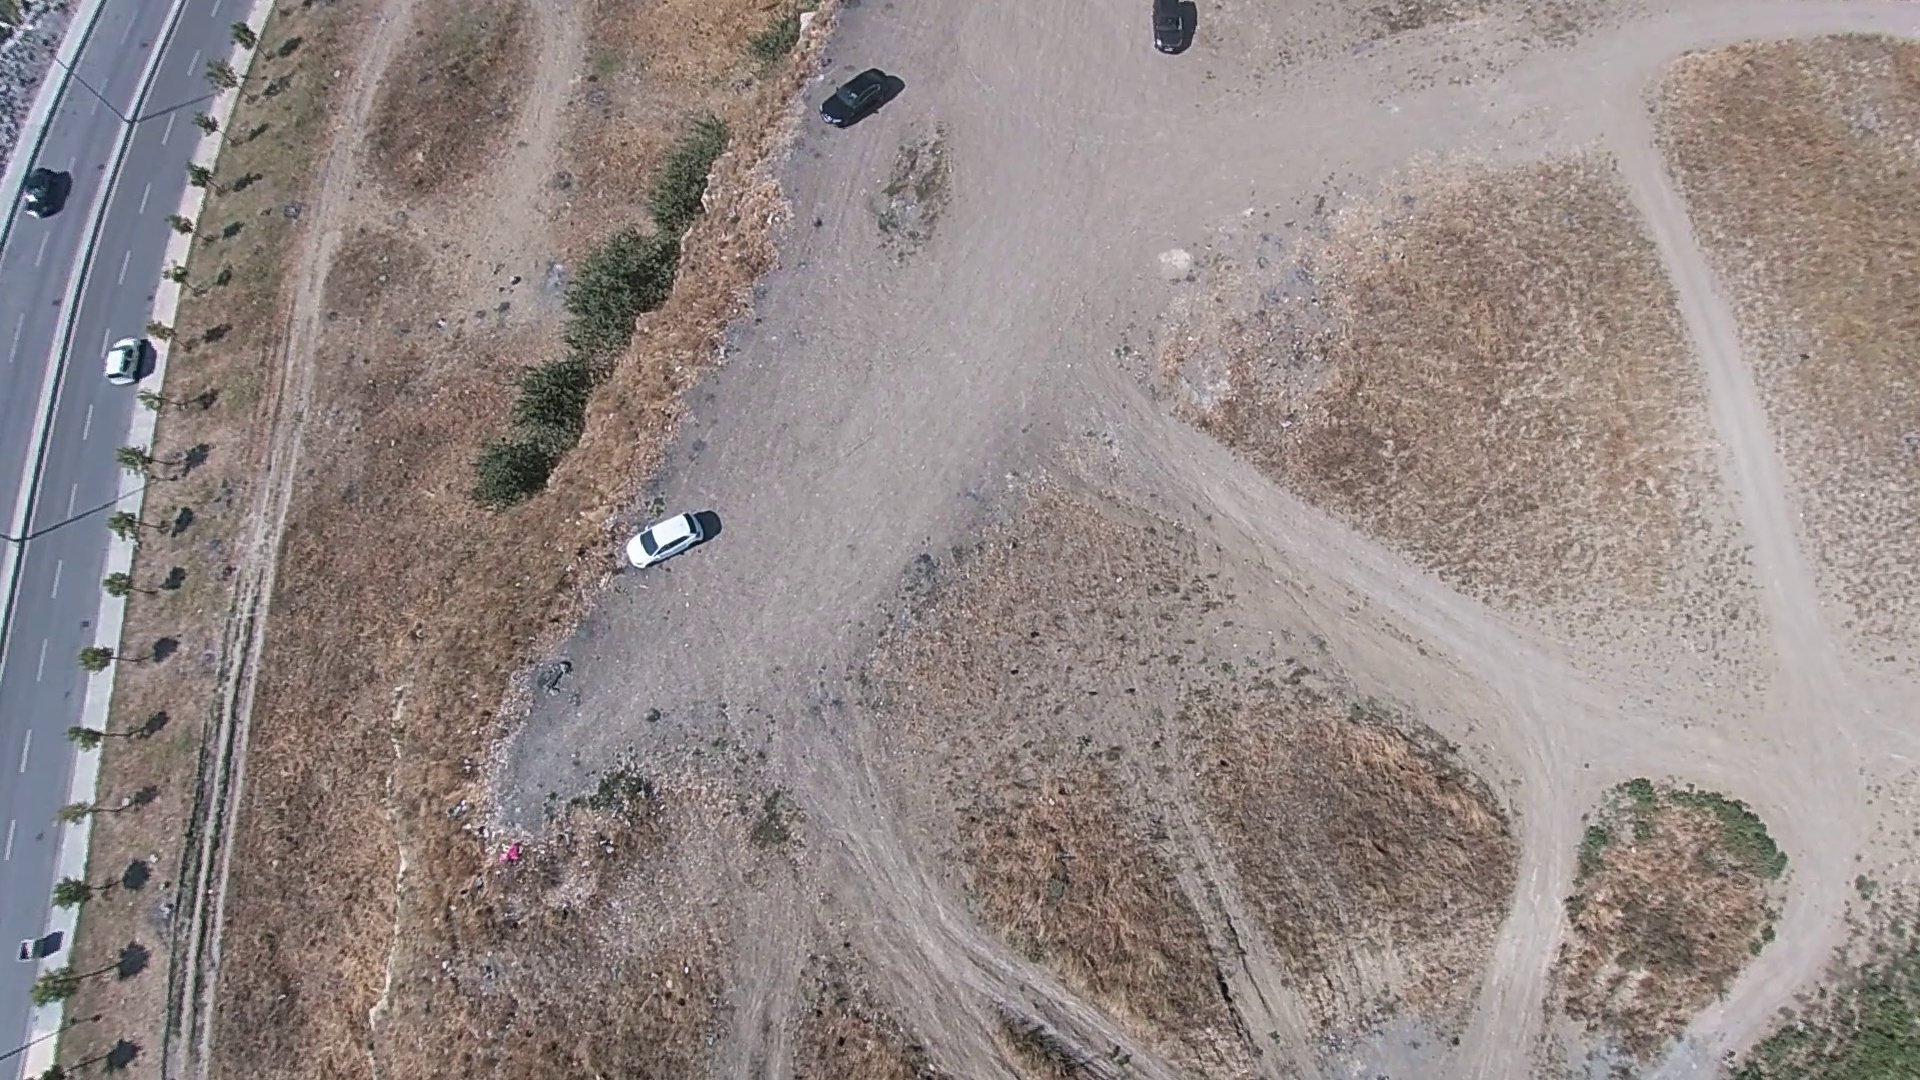araba: (624, 506, 717, 572), (818, 63, 906, 129), (100, 330, 160, 393), (21, 164, 70, 220), (1155, 1, 1196, 58)
